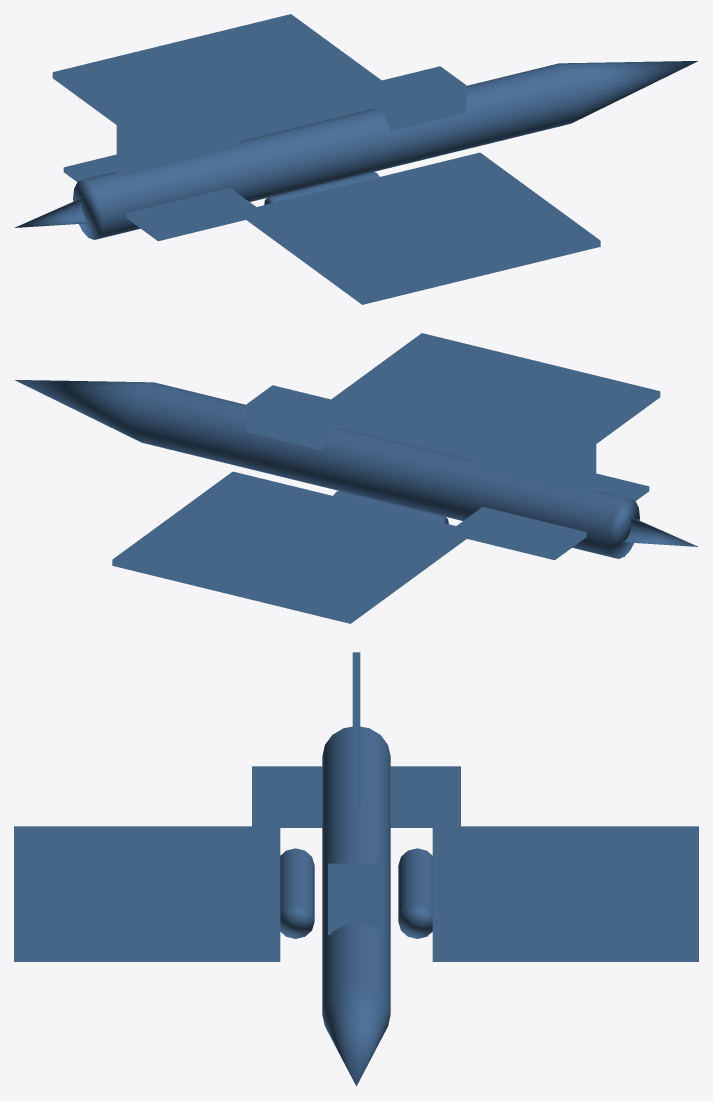
Rendered from jet.glb.
The picture shows the model from 3 angles, top to bottom: view 1: azimuth 30°, elevation 25°; view 2: azimuth 150°, elevation 25°; view 3: azimuth 270°, elevation 25°; orthographic projection. The views are drawn at different scales.
Parts seen in each view (by area): view 1: Jet; view 2: Jet; view 3: Jet.
Part boxes in pixels (box(x1,y1,x2,y2)): Jet: box(14, 14, 697, 304); Jet: box(15, 333, 698, 623); Jet: box(14, 652, 698, 1086).
Bounding box in the file's own units: 4.6 × 0.94 × 3.6.
